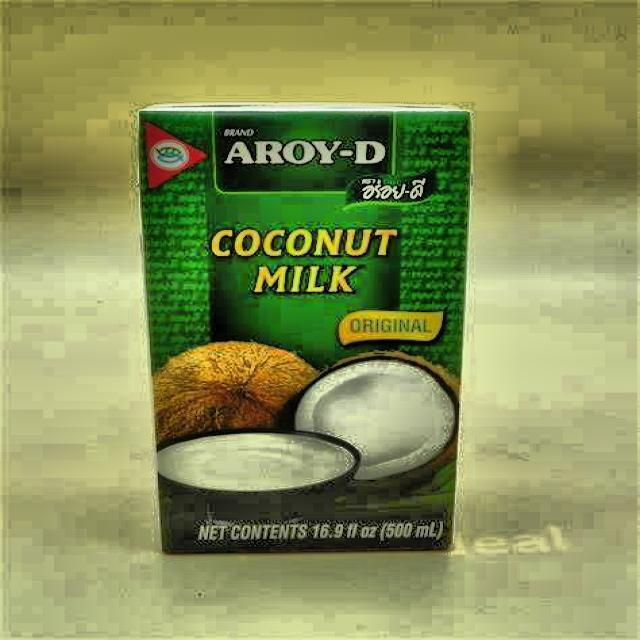cardboard: (138, 101, 472, 555)
